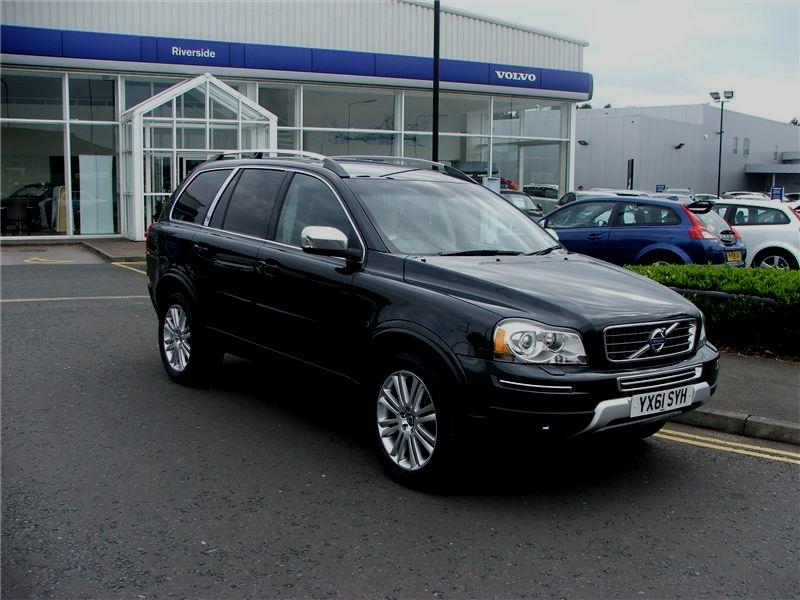volvo: (642, 321, 673, 359)
